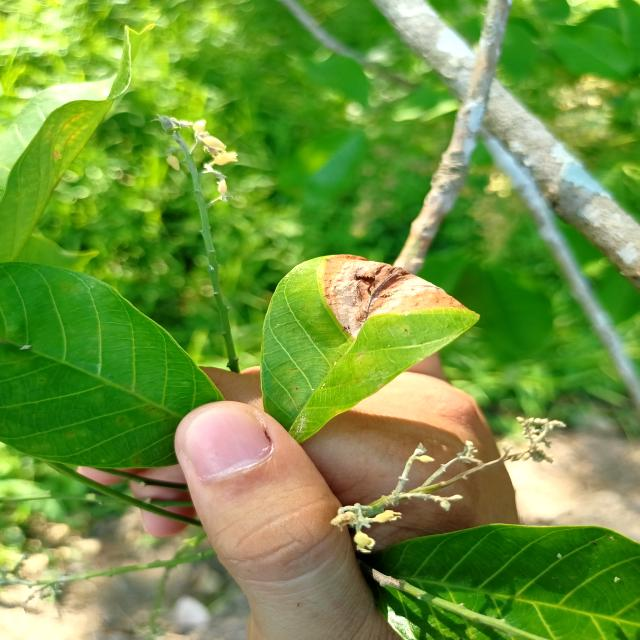Leaf-Blight: (320, 253, 468, 337)
